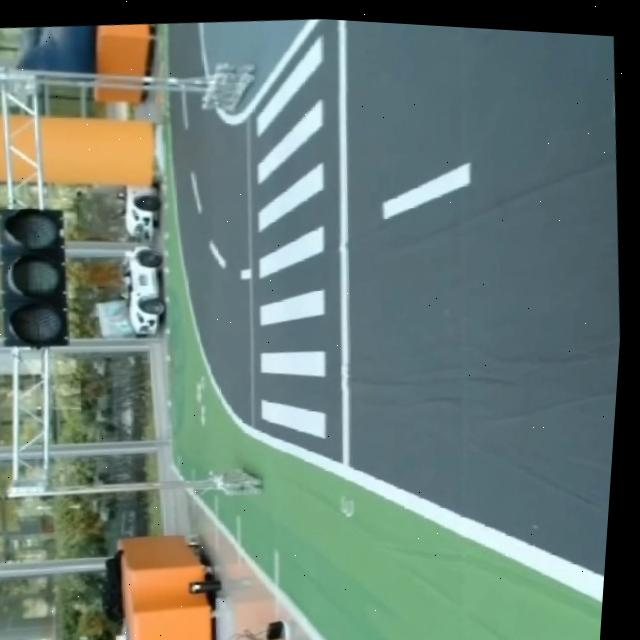traffic-light: (0, 197, 81, 357)
